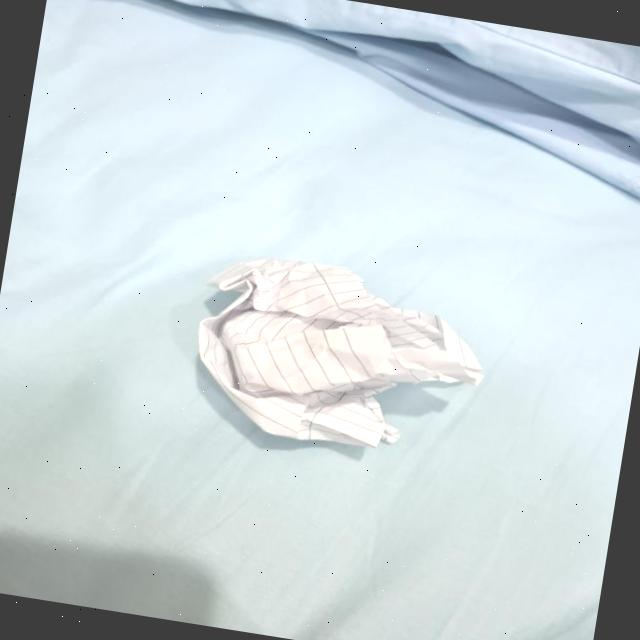trash: (182, 244, 497, 472)
